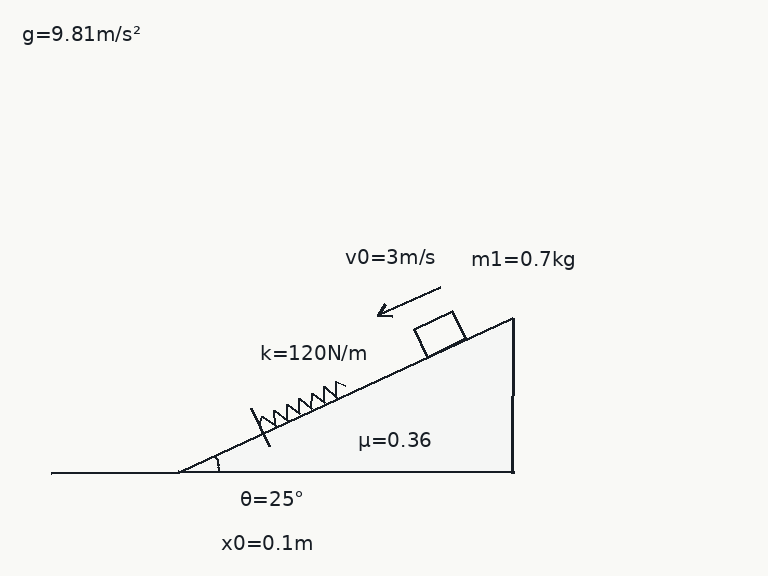block: (412, 309, 467, 358)
ramp: (177, 314, 515, 474)
spring: (257, 379, 347, 428)
